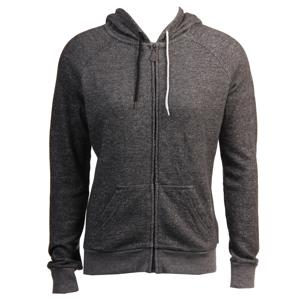C_jacket: (43, 5, 262, 300)
